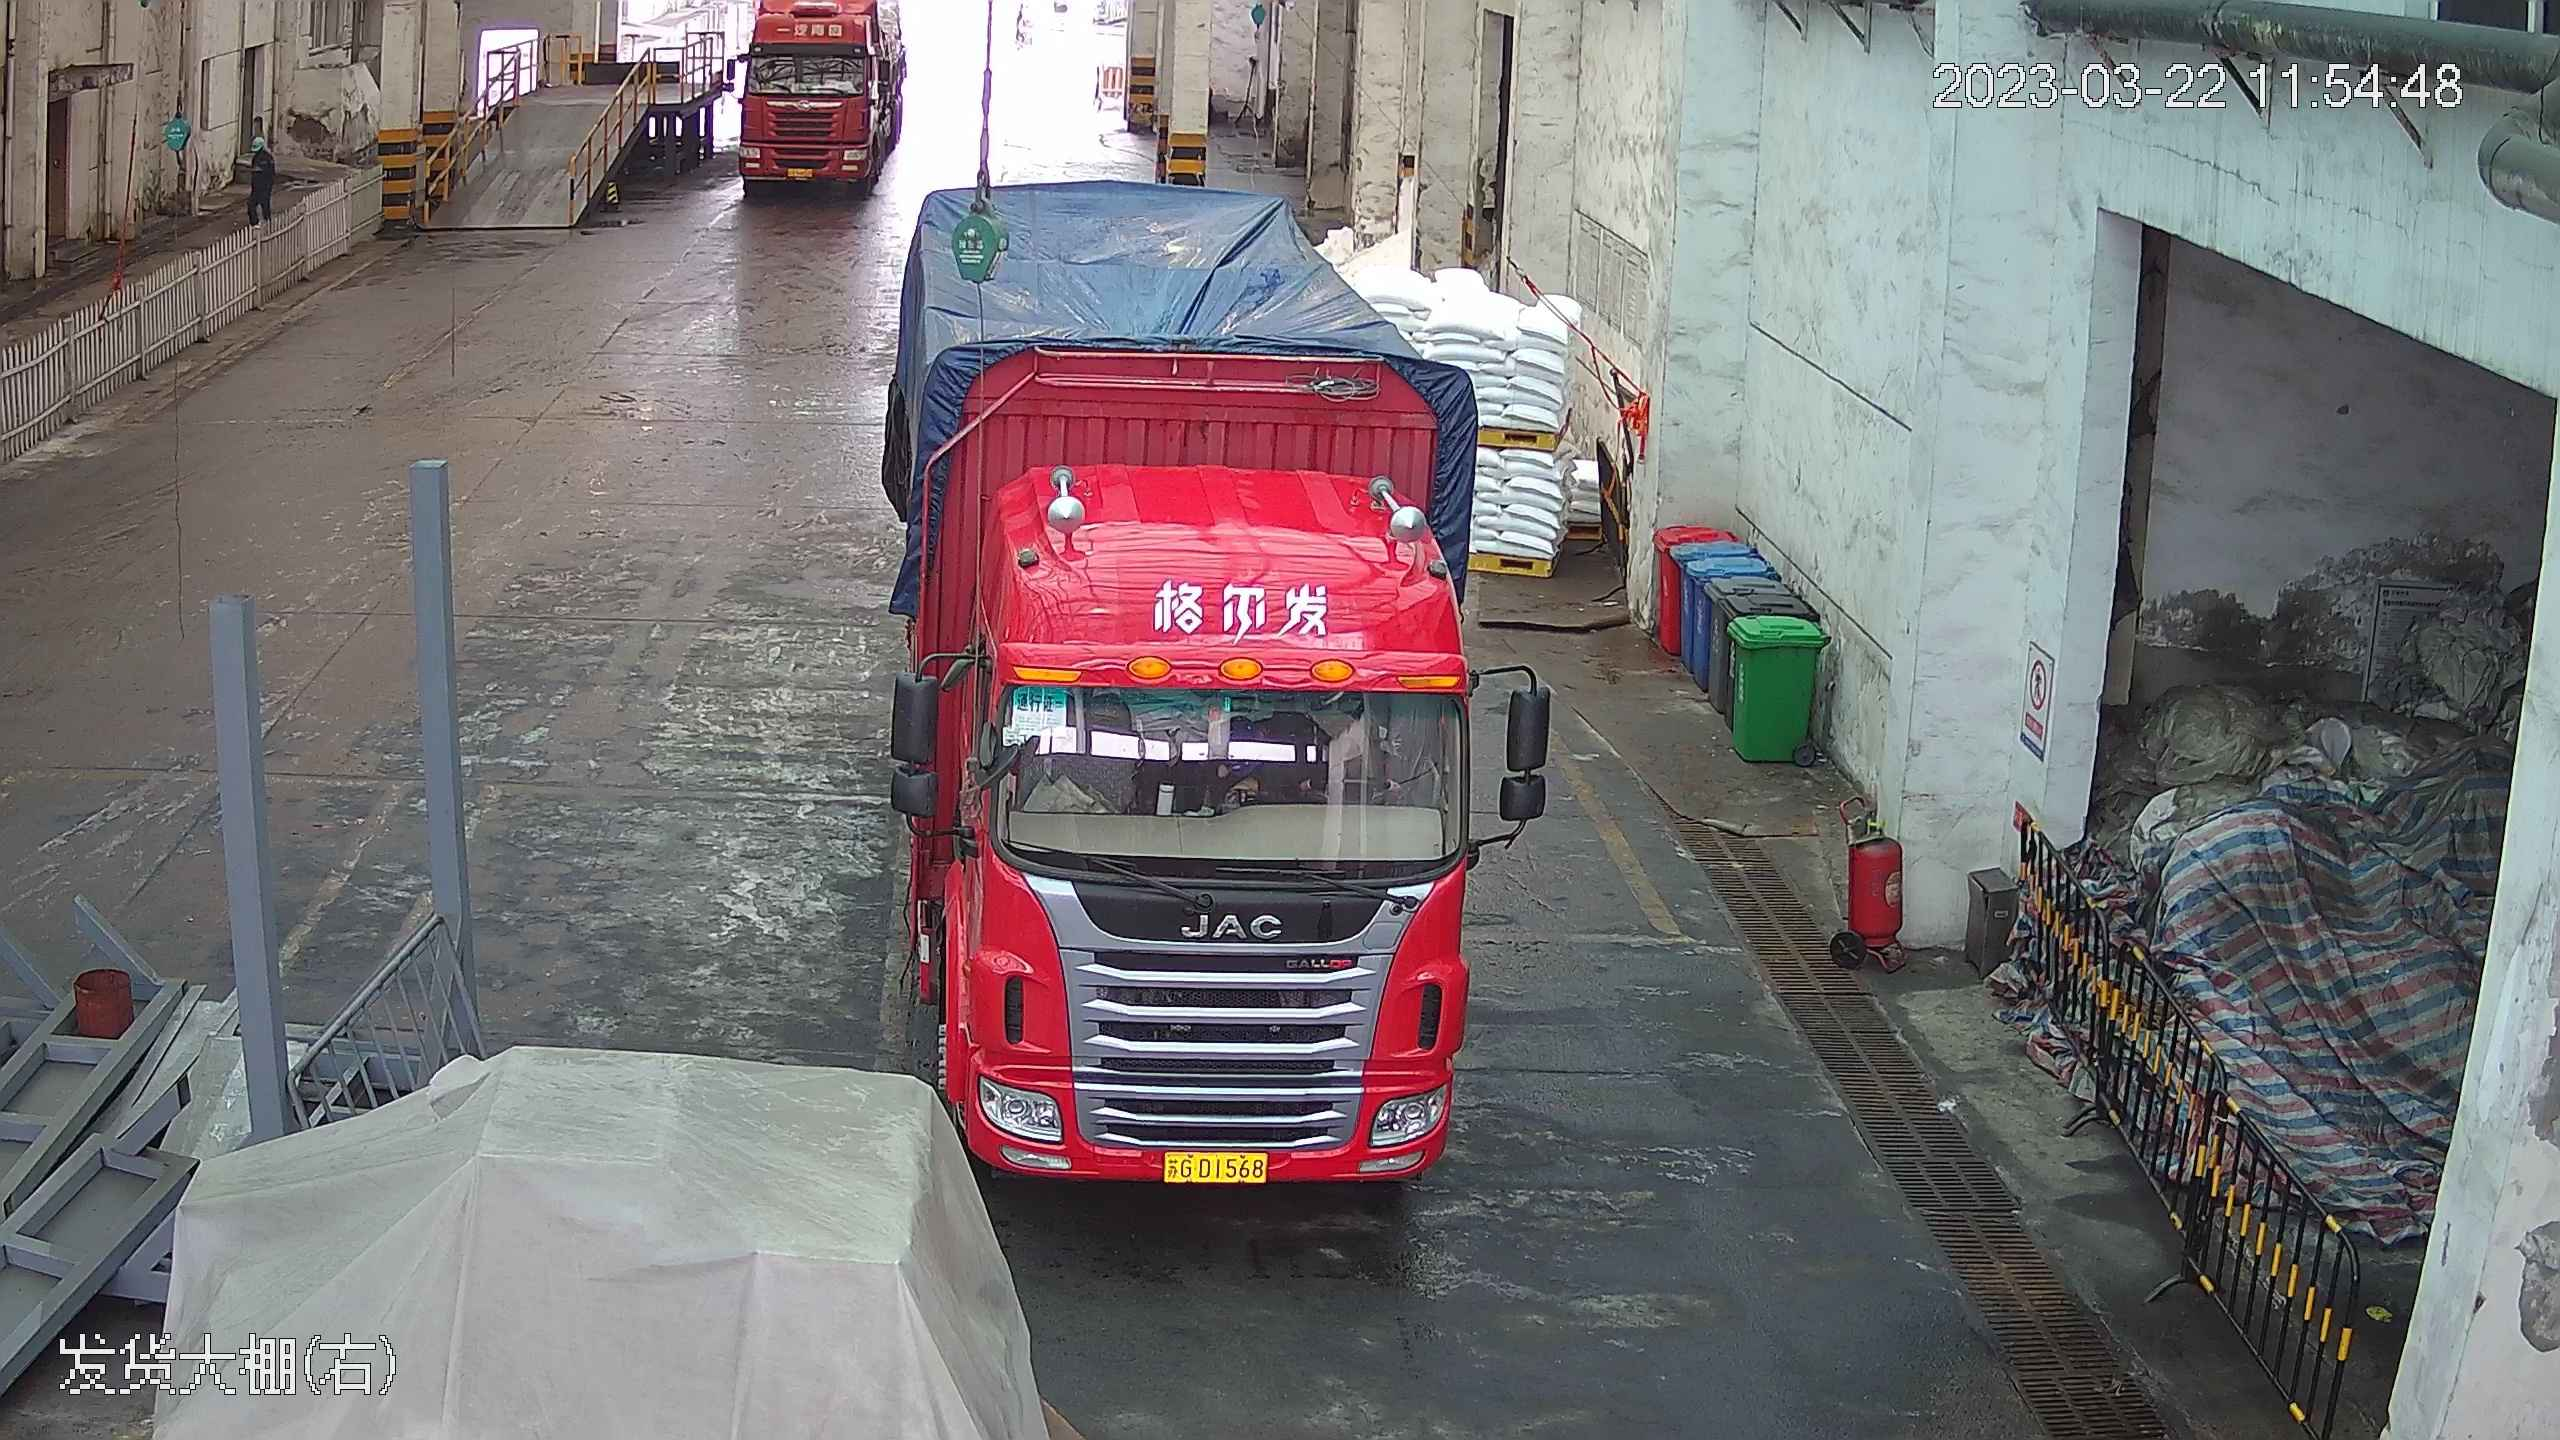head: (246, 136, 274, 166)
helmet: (250, 135, 265, 152)
people: (242, 137, 279, 229)
truck: (860, 110, 1533, 1215), (720, 1, 908, 193)
